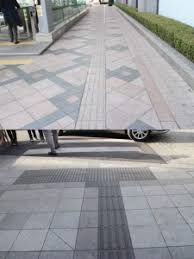guide_blocks: (97, 182, 133, 259), (77, 50, 106, 128), (15, 167, 155, 180), (93, 13, 106, 50), (1, 59, 32, 64)
